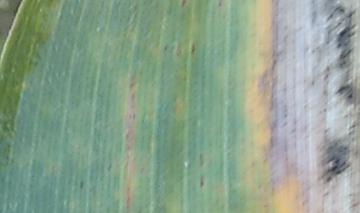tarspot: (324, 156, 351, 183), (333, 81, 356, 100), (335, 24, 357, 38), (197, 151, 205, 169), (189, 39, 197, 56), (178, 1, 190, 10), (198, 173, 205, 188), (78, 179, 85, 190), (336, 8, 346, 14), (216, 1, 222, 9), (162, 43, 167, 51)
